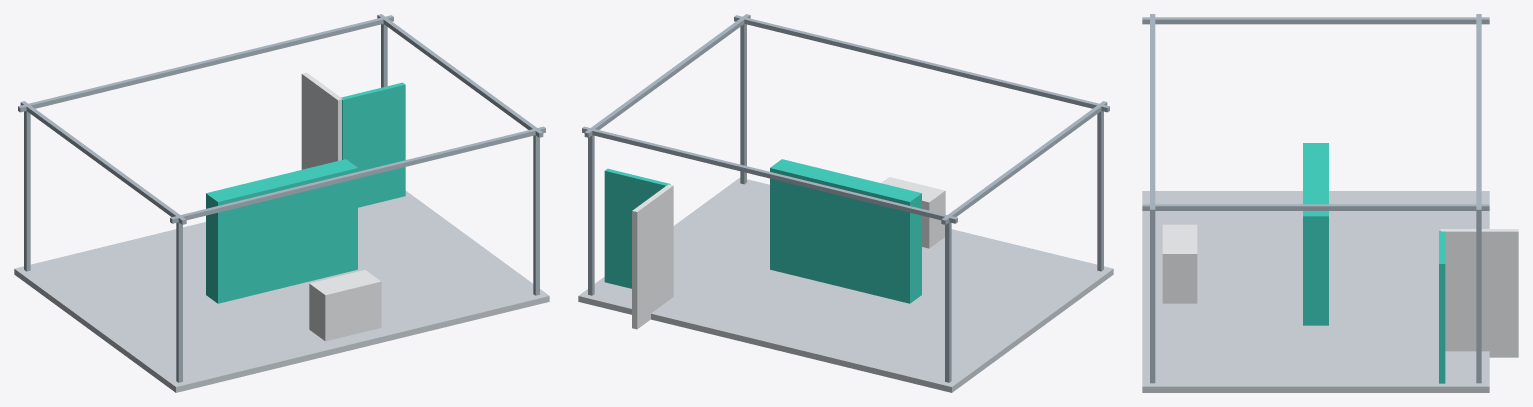
3 renders of one model, left to right at view 1: azimuth 30°, elevation 25°; view 2: azimuth 150°, elevation 25°; view 3: azimuth 270°, elevation 25°, orthographic. The views are drawn at different scales.
Visible parts, largest first — view 1: Exhibition Booth Concept; view 2: Exhibition Booth Concept; view 3: Exhibition Booth Concept.
Boxes of the visible parts, x1,y1,x2,y2 form: Exhibition Booth Concept: [14, 14, 549, 392]; Exhibition Booth Concept: [578, 14, 1113, 392]; Exhibition Booth Concept: [1142, 14, 1518, 392].
Size of the model in its own units: 8 by 3.49 by 6.51.
